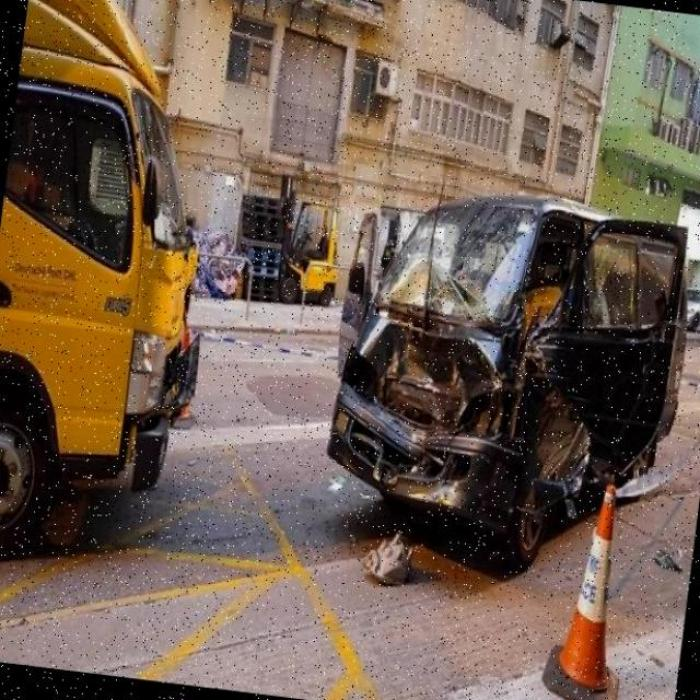Accident: (328, 183, 685, 586)
